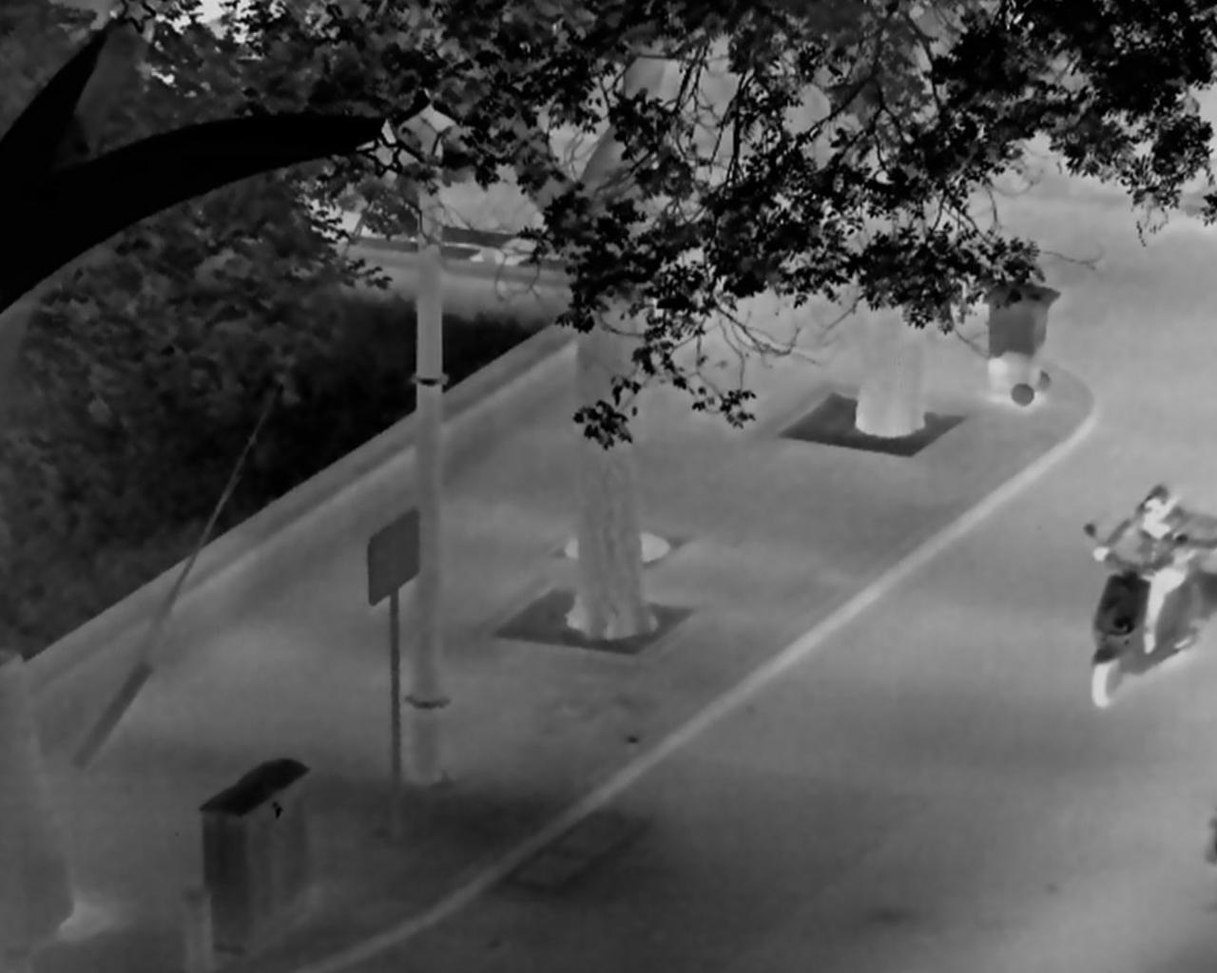person: (1092, 484, 1197, 656)
